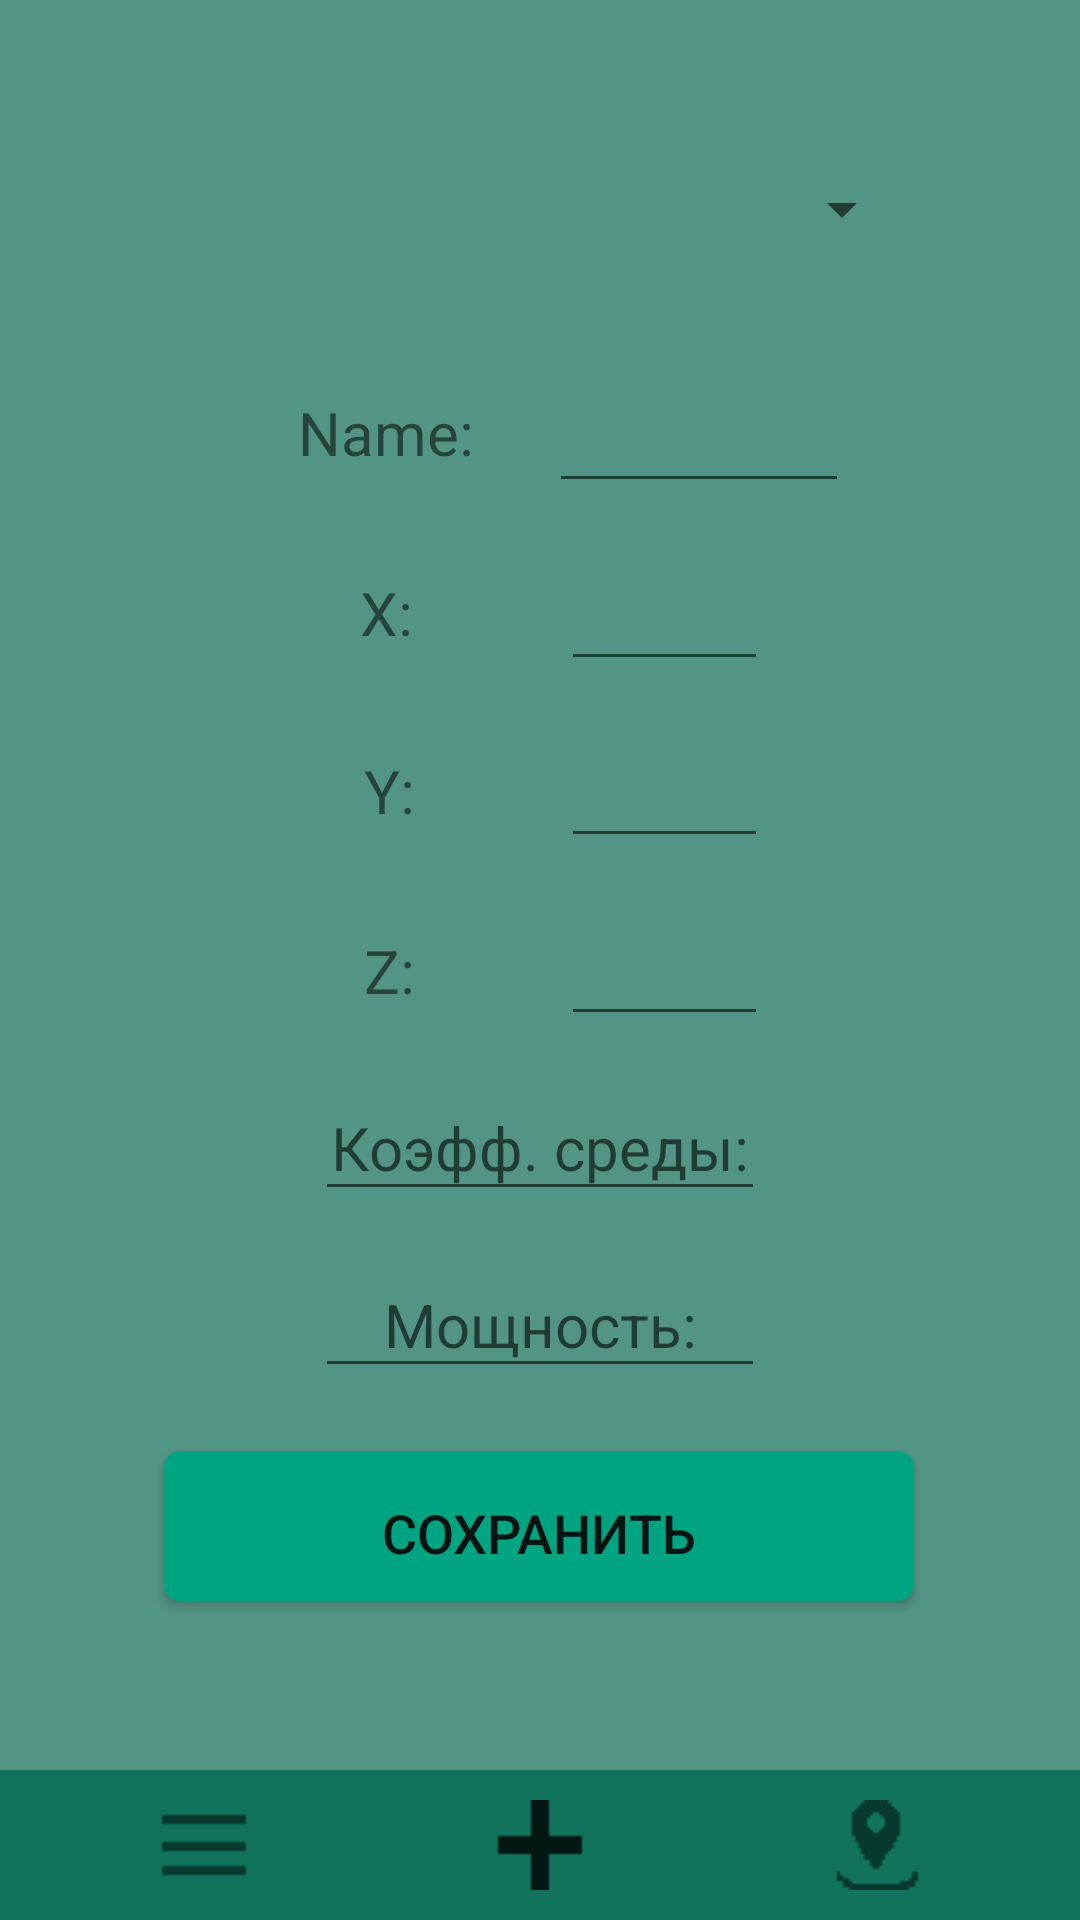

Icons on this 1080 x 1920 Android screen, each with its box as Rect(x1, y1, x2, y2):
add: Rect(497, 1800, 583, 1890)
map: Rect(837, 1800, 918, 1890)
spisok: Rect(162, 1815, 246, 1875)
